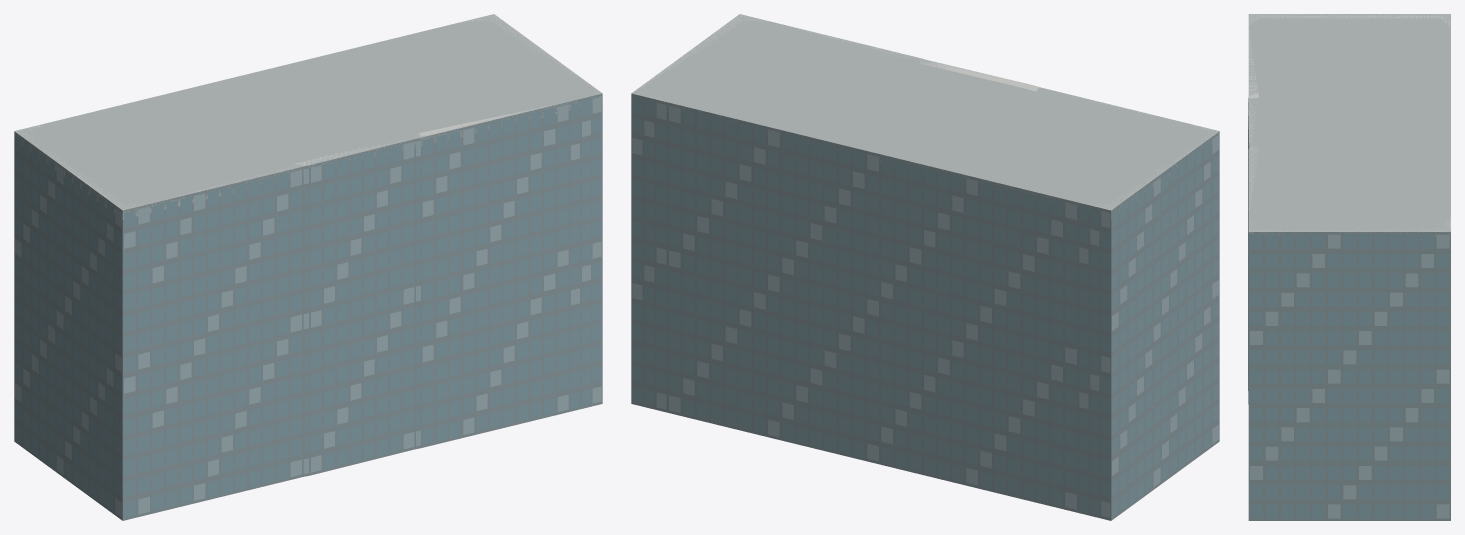
File: civic-941274ec-cb5a-4b9b-89c6-b3c4d34f2f7b.glb
3 views of the same model, side by side, from view 1: azimuth 30°, elevation 25°; view 2: azimuth 150°, elevation 25°; view 3: azimuth 270°, elevation 25° (orthographic). The views are drawn at different scales.
Parts seen in each view (by area): view 1: civic-941274ec-cb5a-4b9b-89c6-b3c4d34f2f7b; view 2: civic-941274ec-cb5a-4b9b-89c6-b3c4d34f2f7b; view 3: civic-941274ec-cb5a-4b9b-89c6-b3c4d34f2f7b.
Boxes of the visible parts, box(x1,y1,x2,y2) form: civic-941274ec-cb5a-4b9b-89c6-b3c4d34f2f7b: box(14, 14, 602, 520); civic-941274ec-cb5a-4b9b-89c6-b3c4d34f2f7b: box(631, 14, 1219, 520); civic-941274ec-cb5a-4b9b-89c6-b3c4d34f2f7b: box(1248, 14, 1450, 520).
Bounding box in the file's own units: 102 × 63 × 40.08.
